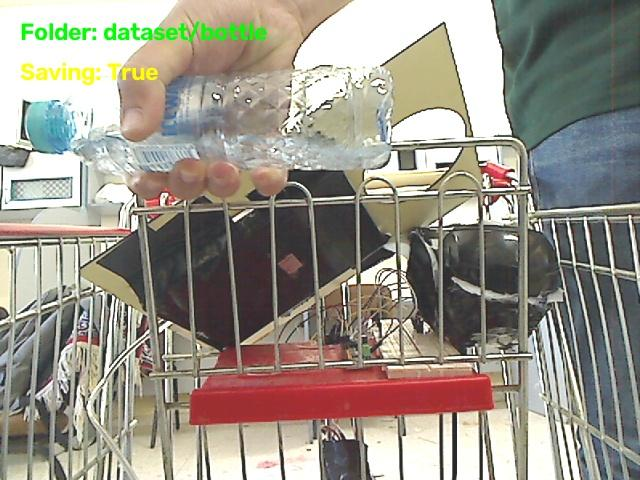Bottle: (26, 66, 392, 174)
can: (245, 1, 366, 72), (117, 34, 184, 141)
